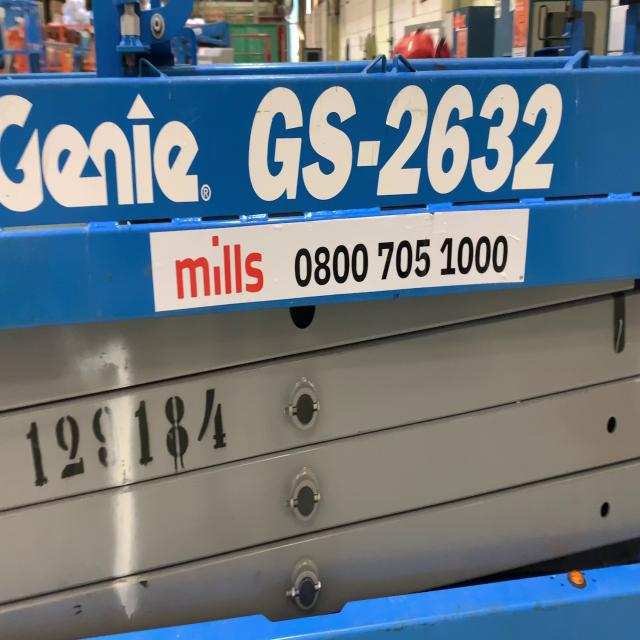Adesivo Longo: (147, 205, 533, 313)
